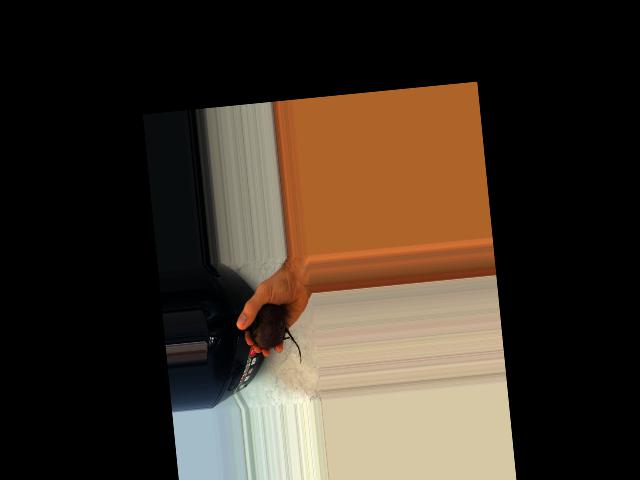beet: (242, 301, 302, 368)
